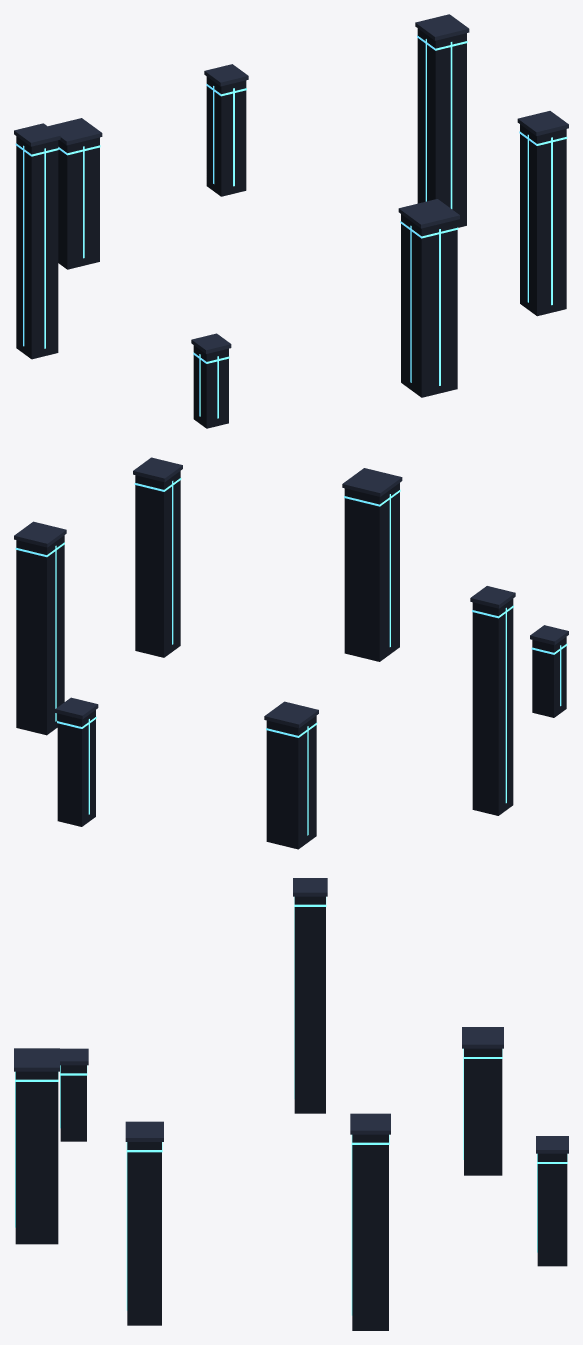
The picture shows the model from 3 angles, top to bottom: view 1: azimuth 30°, elevation 25°; view 2: azimuth 150°, elevation 25°; view 3: azimuth 270°, elevation 25°; orthographic projection. The views are drawn at different scales.
Parts seen in each view (by area): view 1: nexo_spires_arcade.lod1; view 2: nexo_spires_arcade.lod1; view 3: nexo_spires_arcade.lod1.
Boxes of the visible parts, <box> form: nexo_spires_arcade.lod1: <box>14,14,568,428</box>; nexo_spires_arcade.lod1: <box>14,457,568,849</box>; nexo_spires_arcade.lod1: <box>14,878,568,1330</box>.
Bounding box in the file's own units: 25.19 × 11.22 × 25.46.
